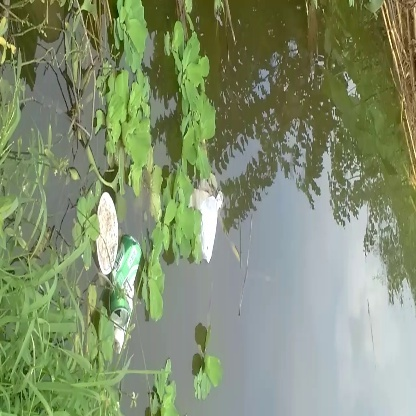bottle: (101, 228, 156, 327)
